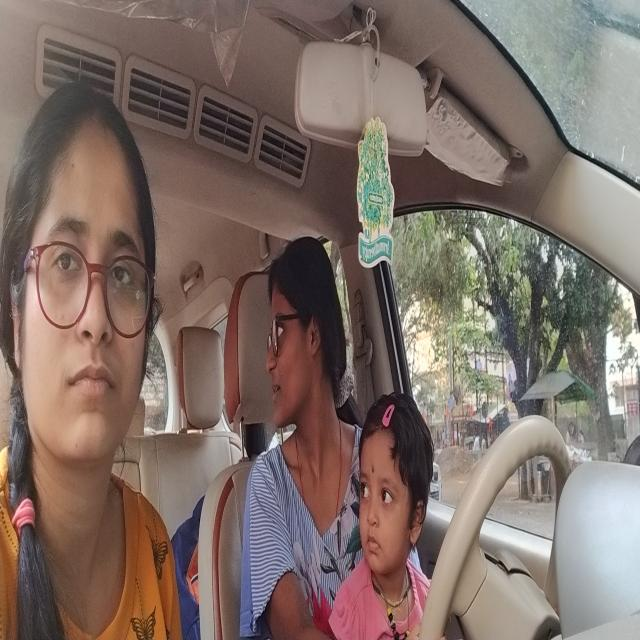LeftRight: (261, 257, 330, 433)
child: (356, 412, 421, 574)
person: (19, 115, 151, 478)
